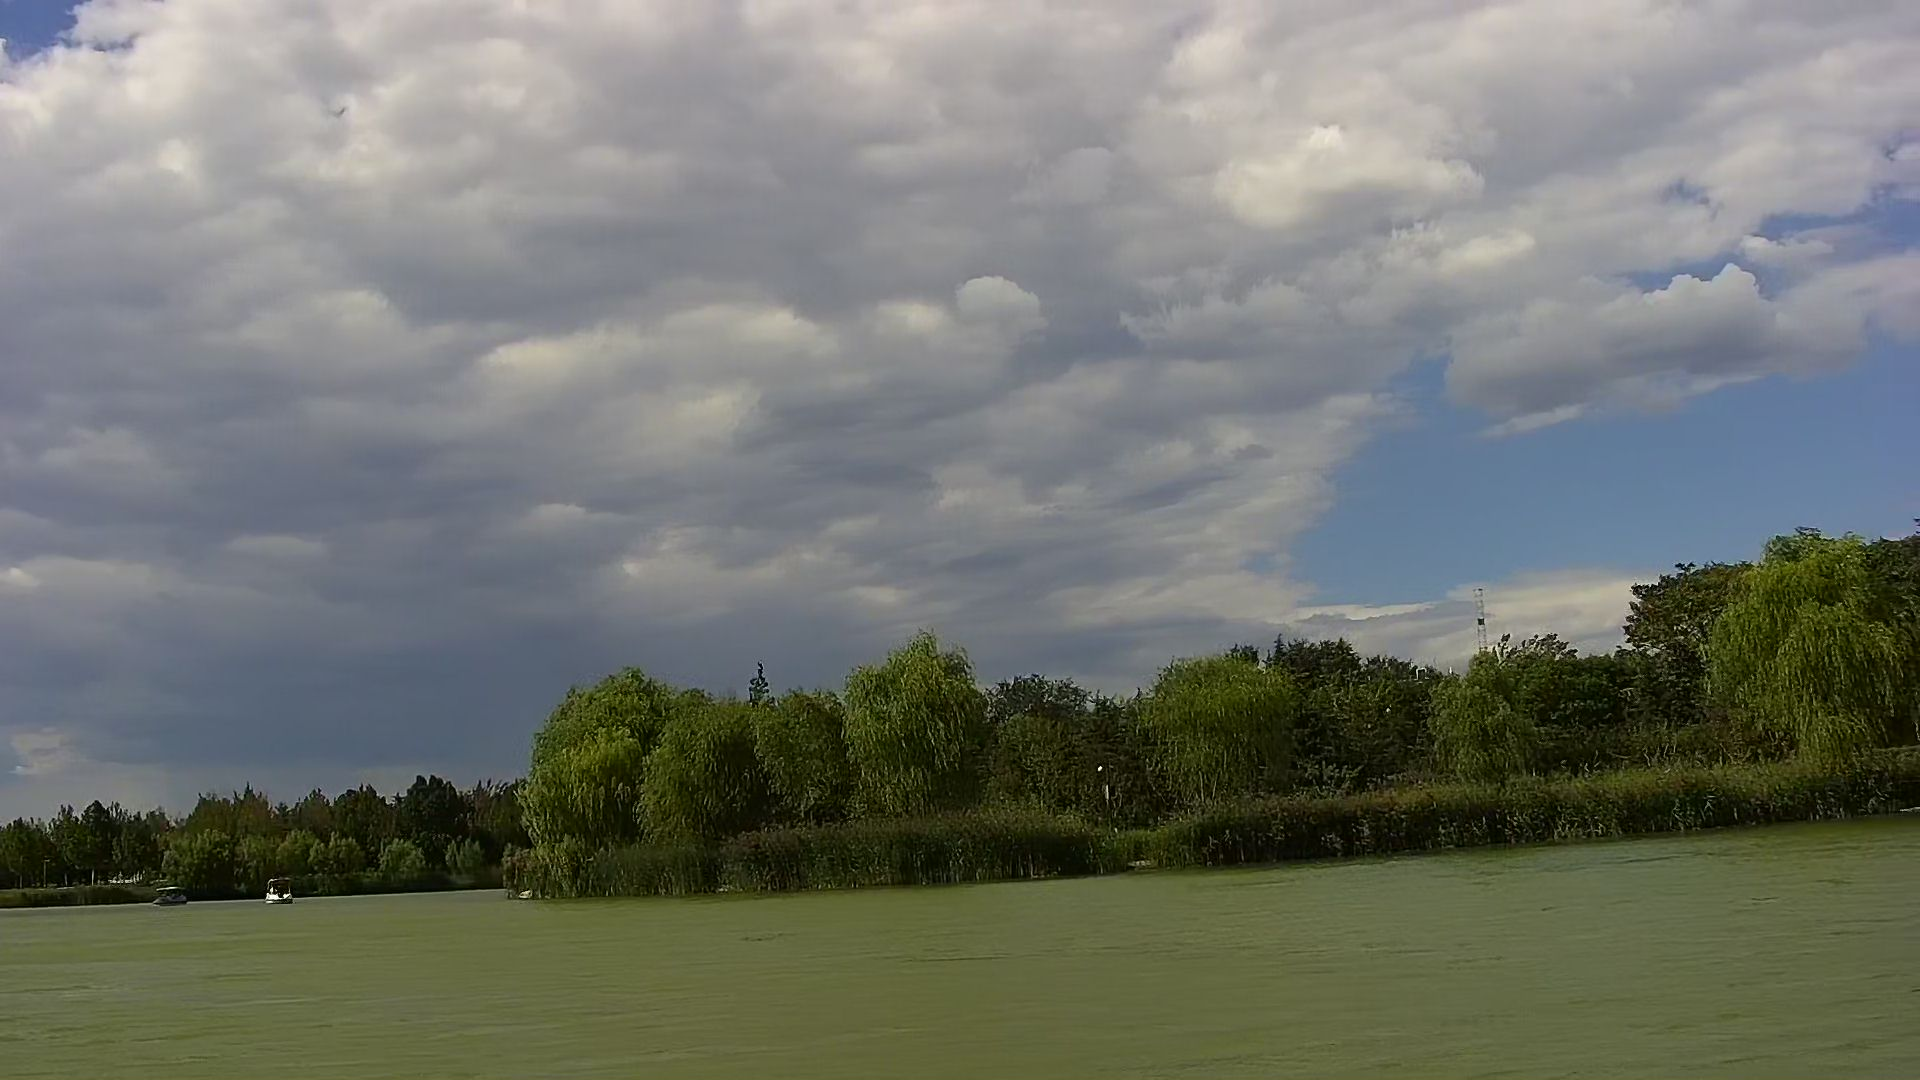boat: (264, 877, 295, 905), (153, 887, 191, 906)
